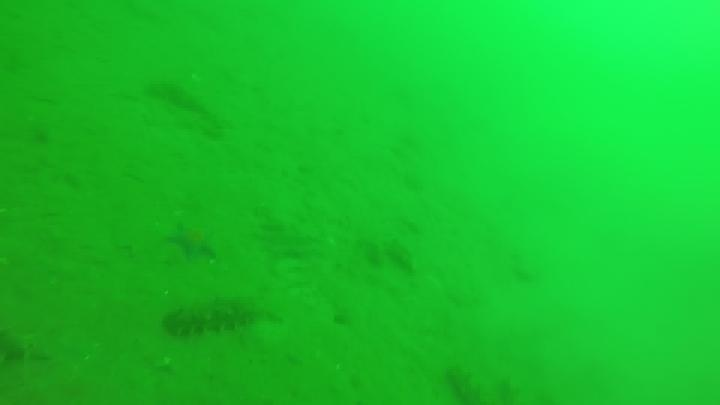holothurian: (161, 294, 283, 340)
starfish: (164, 220, 220, 264)
